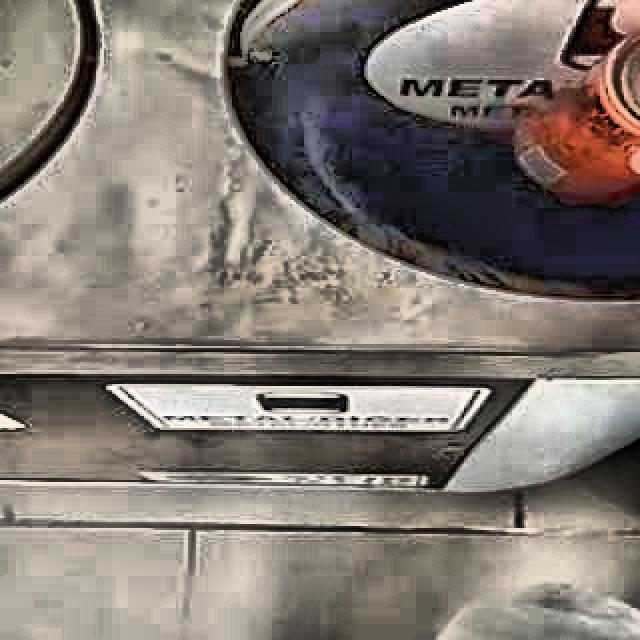metal: (515, 37, 640, 196)
